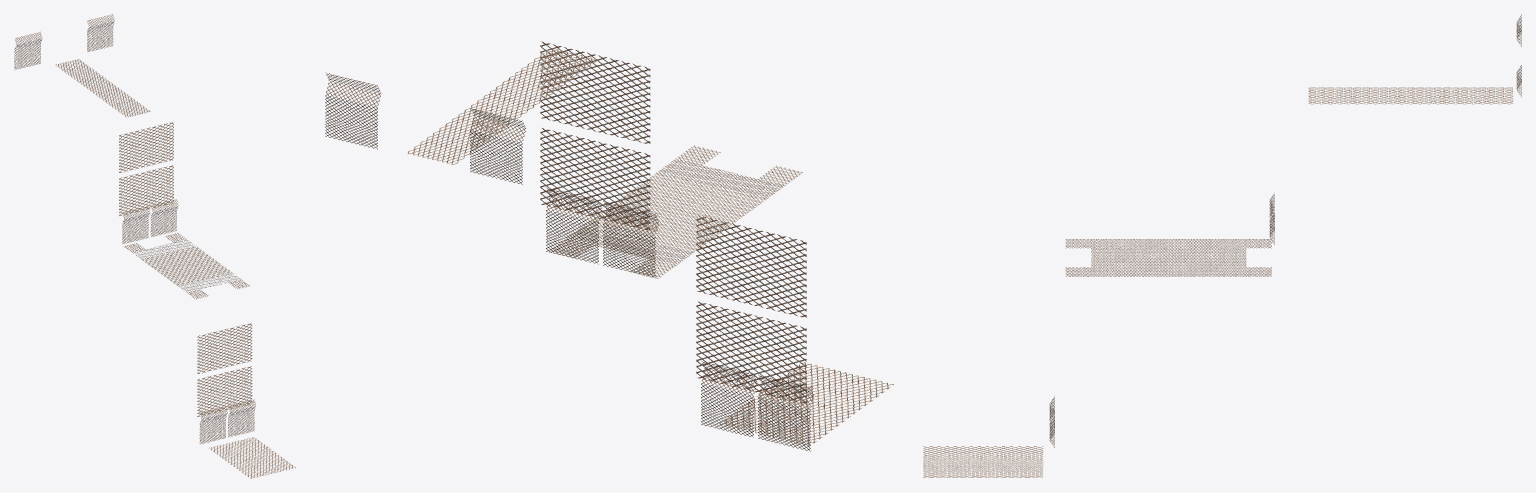
File: STG08_PNW_08.obj
3 views of the same model, side by side, from view 1: azimuth 30°, elevation 25°; view 2: azimuth 150°, elevation 25°; view 3: azimuth 270°, elevation 25° (orthographic). The views are drawn at different scales.
Parts seen in each view (by area): view 1: Object_2; view 2: Object_2; view 3: Object_2.
Boxes of the visible parts, x1,y1,x2,y2 form: Object_2: (14, 14, 295, 478); Object_2: (325, 41, 893, 451); Object_2: (923, 14, 1521, 477).
Bounding box in the file's own units: 216 × 610 × 798.
Materials: 1 (1 with a texture image).
